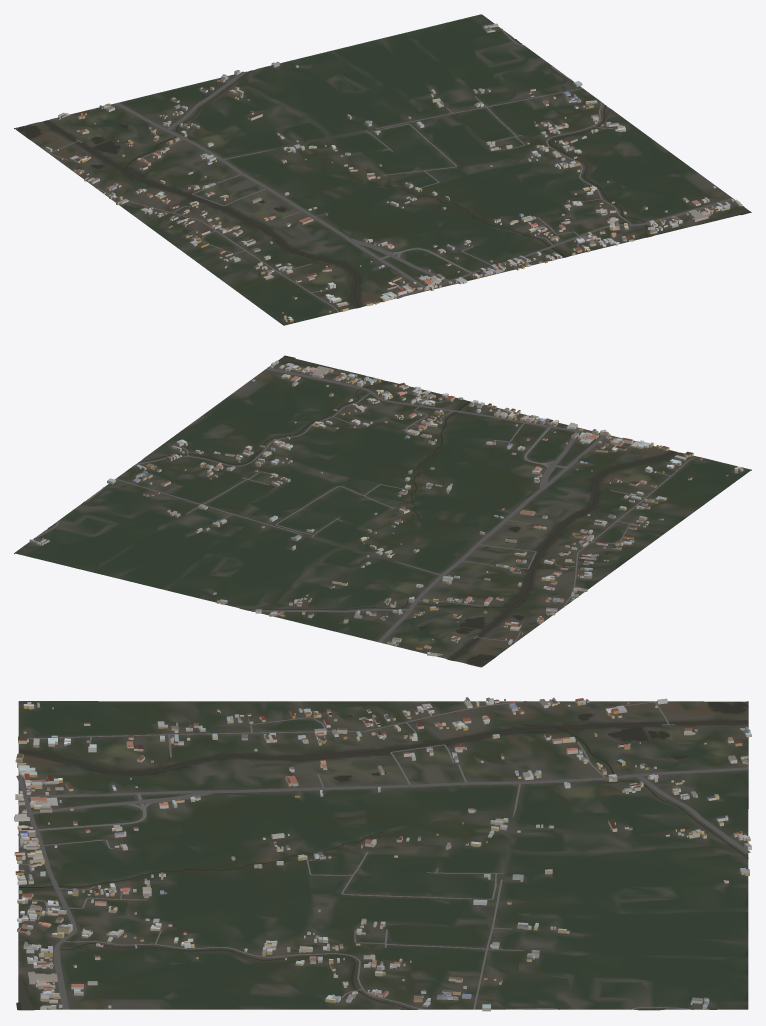
3 views of the same model, one above another, from view 1: azimuth 30°, elevation 25°; view 2: azimuth 150°, elevation 25°; view 3: azimuth 270°, elevation 25° (orthographic). The views are drawn at different scales.
Visible parts, largest first — view 1: ground, buildings, roads, water; view 2: ground, buildings, roads, water; view 3: ground, buildings, roads, water.
Part boxes in pixels (x1,y1,x2,y2): ground: (14, 14, 749, 325); buildings: (45, 23, 742, 322); roads: (48, 29, 734, 312); water: (17, 39, 751, 307); ground: (14, 358, 751, 667); buildings: (29, 360, 743, 656); roads: (34, 367, 696, 642); water: (47, 355, 676, 665); ground: (18, 701, 748, 1010); buildings: (14, 697, 751, 1011); roads: (16, 701, 750, 1009); water: (16, 701, 748, 1010).
Size of the model in its own units: 1412 by 15.63 by 1416.
